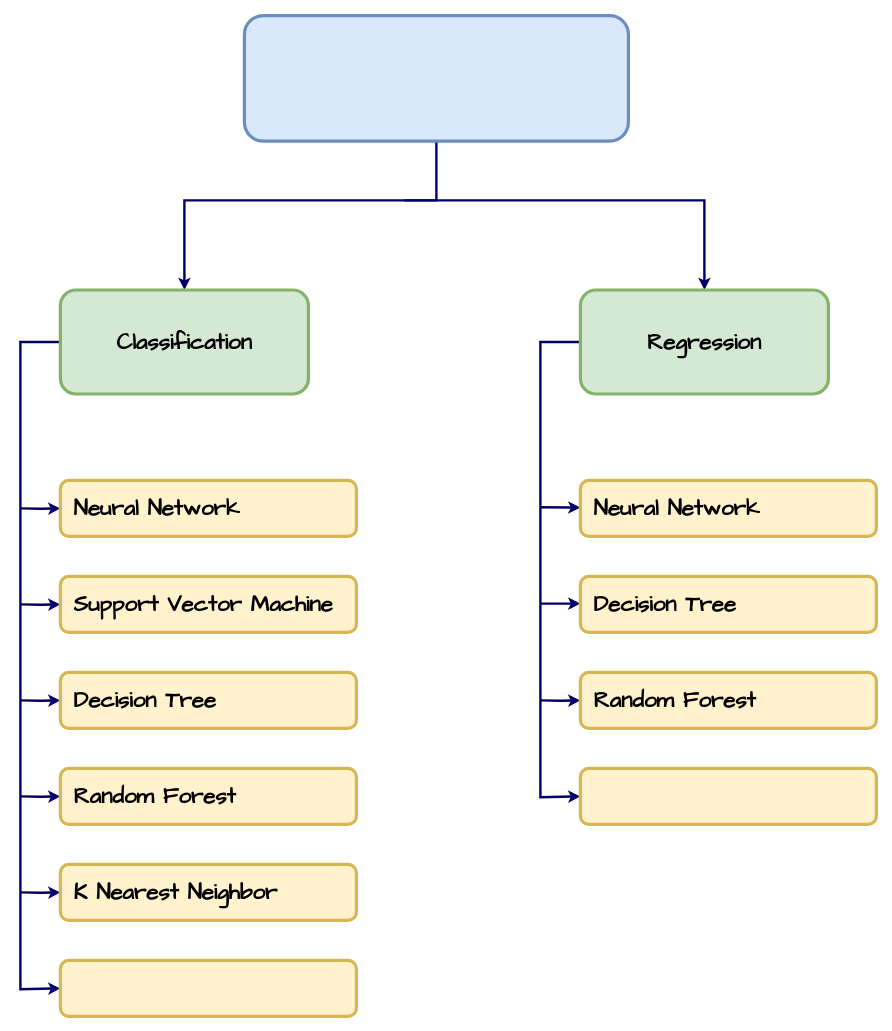
The diagram is 892 pixels wide and 1031 high, and some of its shapes have lost their labels. Here are the shapes that lost their labels. From the top down, the box of each, then its label:
(242, 14, 630, 142): Supervised Learning
(578, 766, 878, 826): Linear Regression
(58, 958, 358, 1018): Logistic Regression
